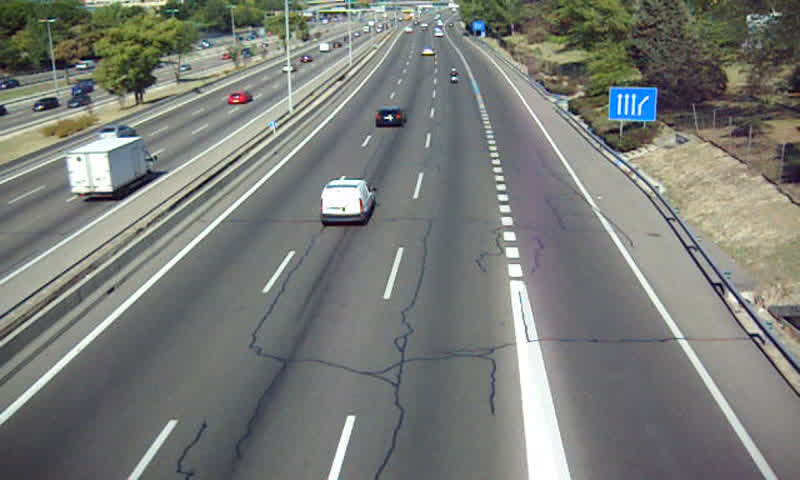car: (374, 108, 406, 129)
motorcycle: (447, 68, 460, 84)
van: (318, 180, 377, 226)
